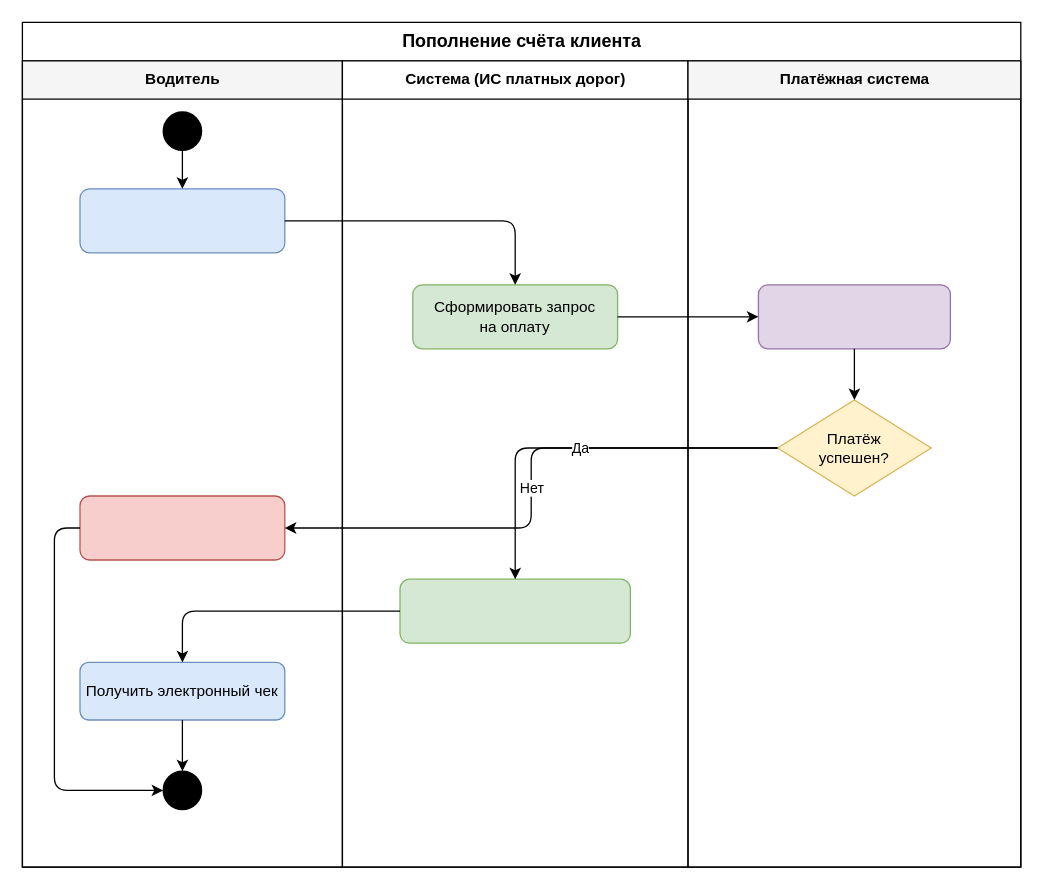
Image size: 1043x890. Some labels were removed from this diagram. Here are the shapes that lost their labels. From the top down, the centre of each, then its label:
At [182,220]: "Выбрать сумму и способ оплаты".
At [853,316]: "Обработать платёж".
At [182,527]: "Получить уведомление об ошибке оплаты".
At [514,610]: "Зачислить сумму на баланс и записать платёж в БД".
